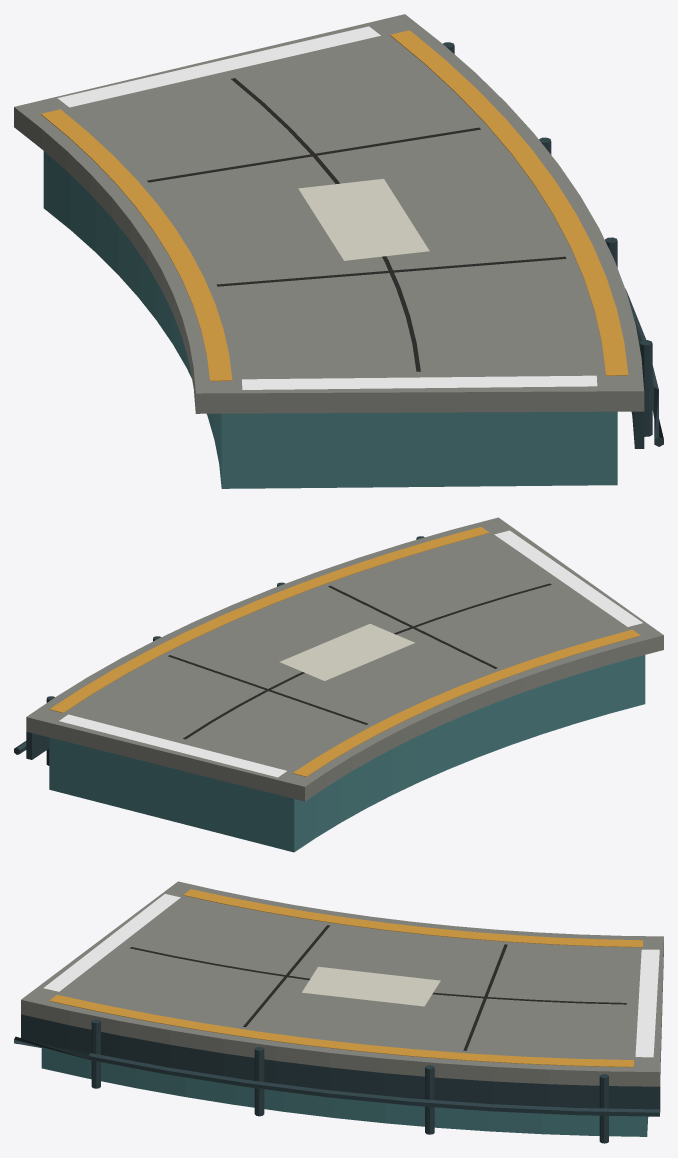
The model's file is core-ring-middle.glb.
3 renders of one model, top to bottom at view 1: azimuth 30°, elevation 25°; view 2: azimuth 150°, elevation 25°; view 3: azimuth 270°, elevation 25°, orthographic. The views are drawn at different scales.
Visible parts, largest first — view 1: core-ring-middle__core-ring-middle__concrete, core-ring-middle__core-ring-middle__petrol, core-ring-middle__core-ring-middle__amber, core-ring-middle__core-ring-middle__decal-hazard, core-ring-middle__core-ring-middle__decal-ivory, core-ring-middle__core-ring-middle__soot, core-ring-middle__core-ring-middle__steel; view 2: core-ring-middle__core-ring-middle__concrete, core-ring-middle__core-ring-middle__petrol, core-ring-middle__core-ring-middle__amber, core-ring-middle__core-ring-middle__decal-hazard, core-ring-middle__core-ring-middle__decal-ivory, core-ring-middle__core-ring-middle__soot, core-ring-middle__core-ring-middle__steel; view 3: core-ring-middle__core-ring-middle__concrete, core-ring-middle__core-ring-middle__steel, core-ring-middle__core-ring-middle__petrol, core-ring-middle__core-ring-middle__amber, core-ring-middle__core-ring-middle__decal-hazard, core-ring-middle__core-ring-middle__decal-ivory, core-ring-middle__core-ring-middle__soot.
Part boxes in pixels (x1,y1,x2,y2): core-ring-middle__core-ring-middle__concrete: [14, 14, 644, 413]; core-ring-middle__core-ring-middle__petrol: [43, 151, 617, 488]; core-ring-middle__core-ring-middle__amber: [41, 30, 628, 381]; core-ring-middle__core-ring-middle__decal-hazard: [57, 26, 597, 389]; core-ring-middle__core-ring-middle__decal-ivory: [298, 178, 429, 260]; core-ring-middle__core-ring-middle__soot: [147, 78, 566, 371]; core-ring-middle__core-ring-middle__steel: [443, 42, 663, 448]; core-ring-middle__core-ring-middle__concrete: [26, 517, 663, 801]; core-ring-middle__core-ring-middle__petrol: [49, 655, 645, 852]; core-ring-middle__core-ring-middle__amber: [49, 527, 640, 776]; core-ring-middle__core-ring-middle__decal-hazard: [59, 530, 642, 777]; core-ring-middle__core-ring-middle__decal-ivory: [280, 624, 414, 680]; core-ring-middle__core-ring-middle__soot: [168, 583, 551, 739]; core-ring-middle__core-ring-middle__steel: [14, 536, 424, 765]; core-ring-middle__core-ring-middle__concrete: [21, 881, 663, 1086]; core-ring-middle__core-ring-middle__steel: [14, 1014, 660, 1143]; core-ring-middle__core-ring-middle__petrol: [41, 1048, 648, 1136]; core-ring-middle__core-ring-middle__amber: [49, 889, 643, 1067]; core-ring-middle__core-ring-middle__decal-hazard: [43, 894, 659, 1057]; core-ring-middle__core-ring-middle__decal-ivory: [302, 966, 440, 1006]; core-ring-middle__core-ring-middle__soot: [130, 925, 626, 1050].
Bounding box in the file's own units: 3.48 × 0.606 × 4.86.
